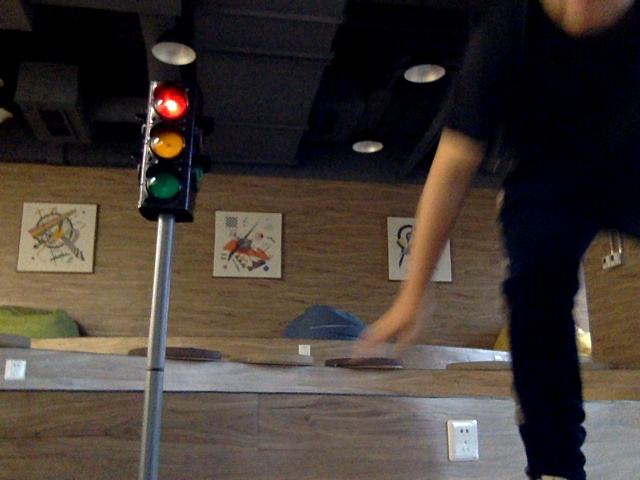red: (146, 84, 187, 210)
